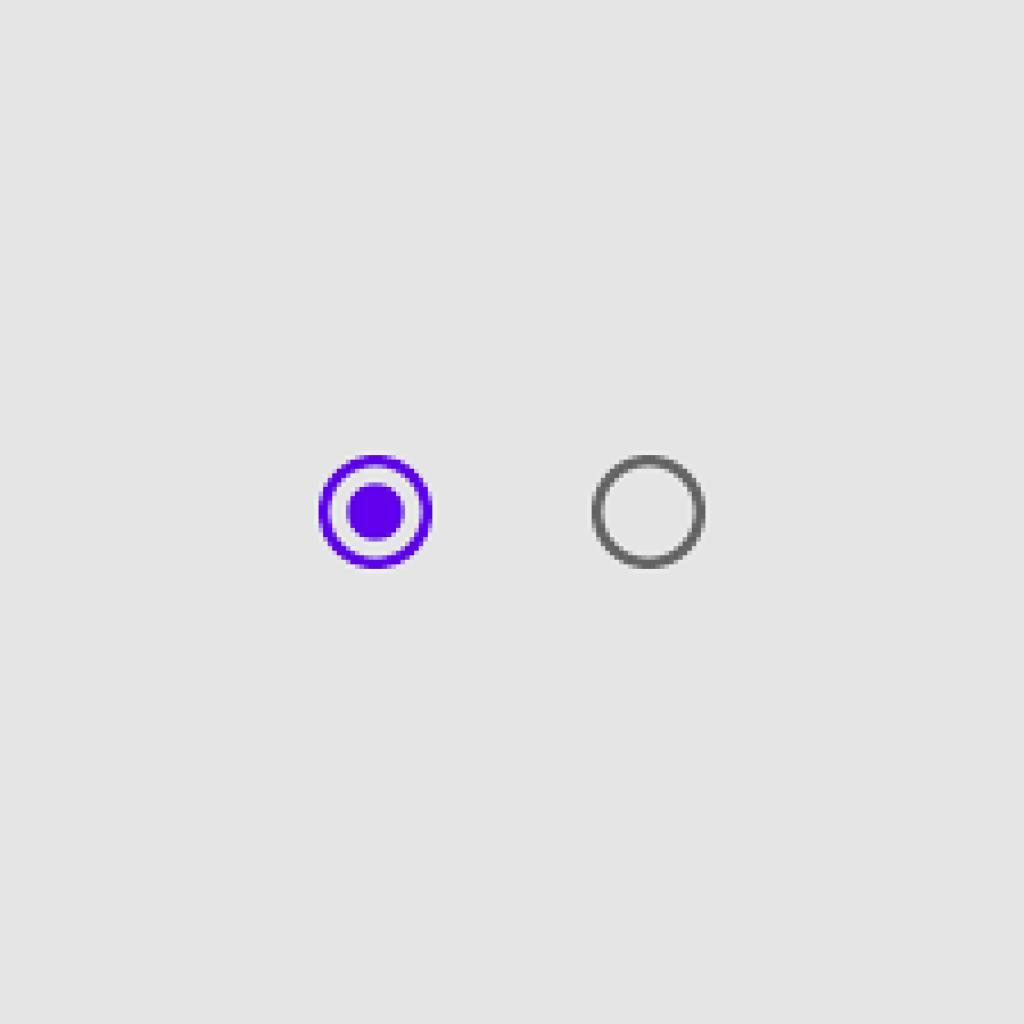radio: (308, 453, 439, 579), (586, 451, 714, 571)
